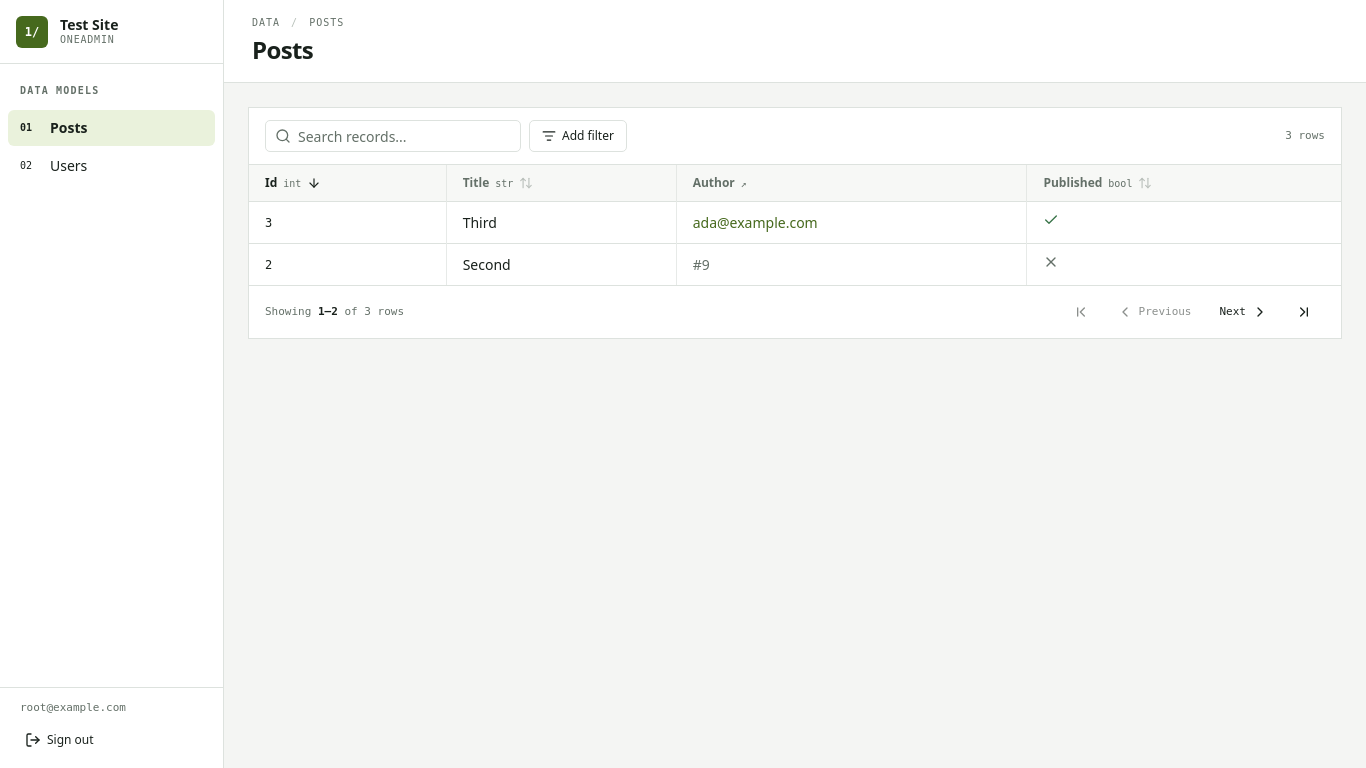
Test: permissions › hides every edit control from view-only users
Expected: the table named "Posts" is shown, [249, 165, 1341, 285]
Click the link "3" at (269, 223), box [265, 216, 272, 230]
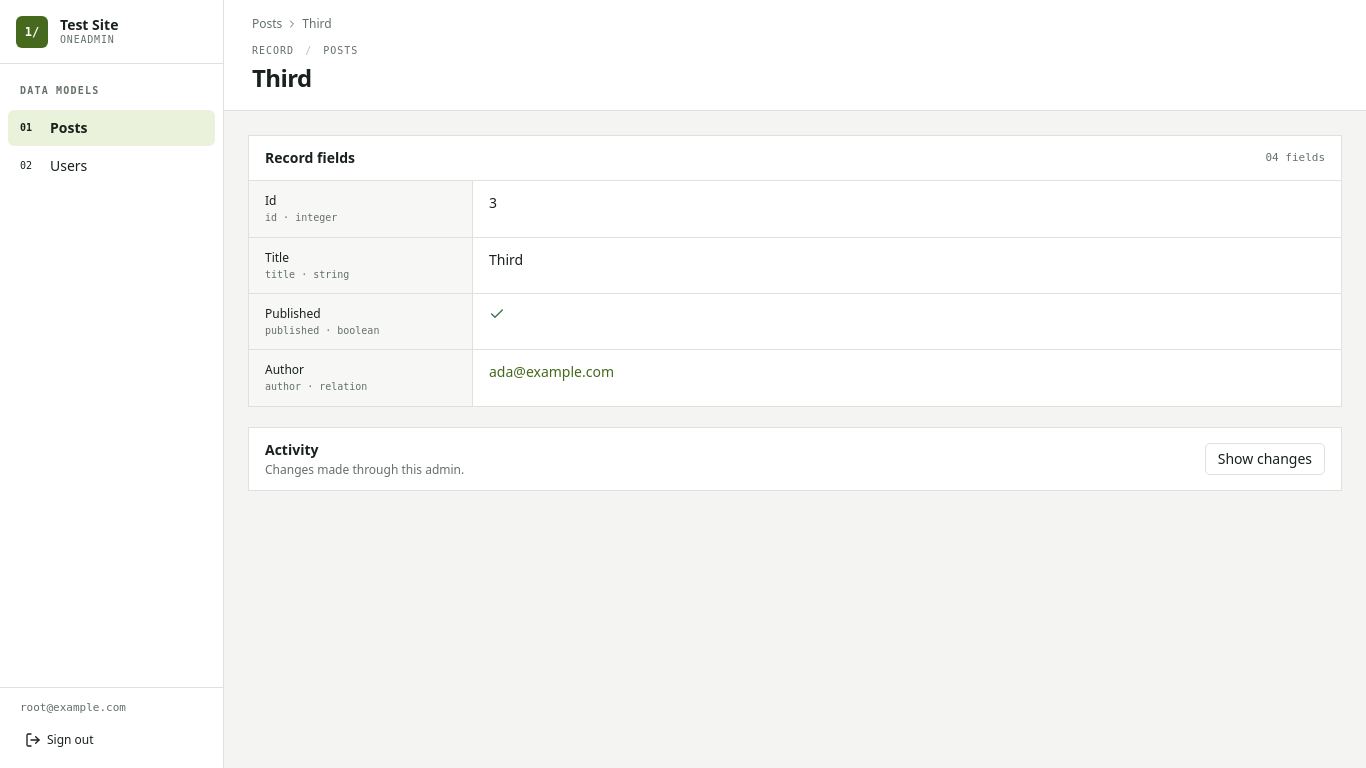
Now the heading "Third" is shown, box [252, 61, 312, 94]
